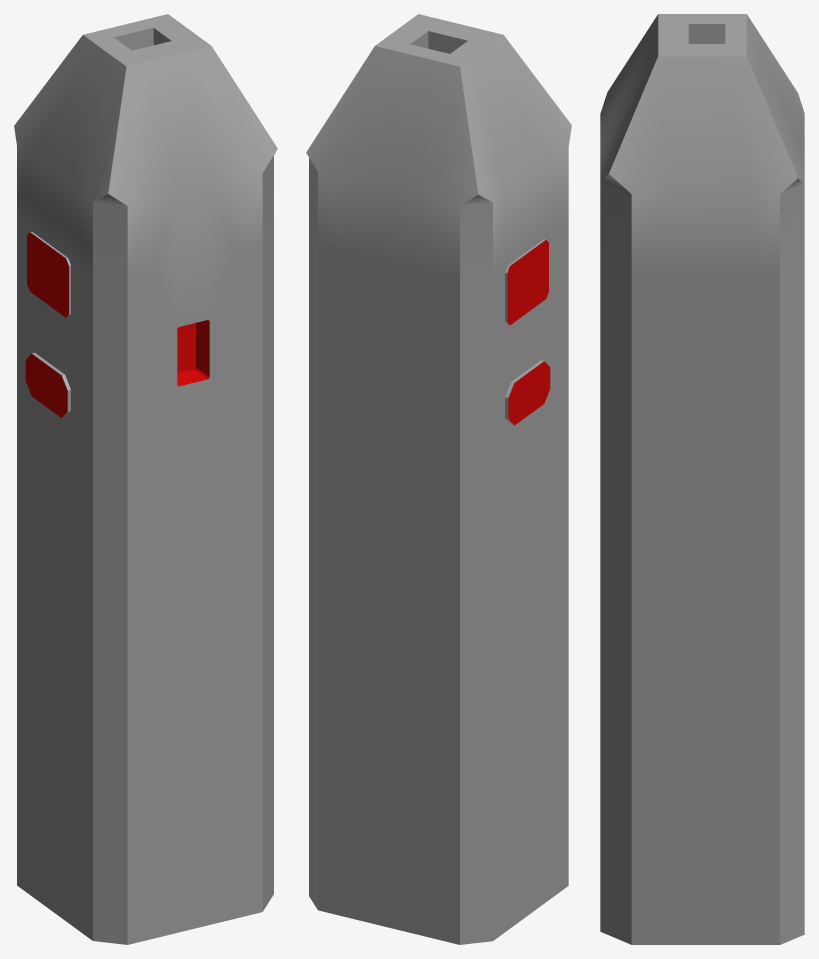
The model's file is Vape.fbx.
3 renders of one model, left to right at view 1: azimuth 30°, elevation 25°; view 2: azimuth 150°, elevation 25°; view 3: azimuth 270°, elevation 25°, orthographic.
Visible parts, largest first — view 1: Vape; view 2: Vape; view 3: Vape.
Boxes of the visible parts, box(x1,y1,x2,y2) form: Vape: box(14, 14, 277, 944); Vape: box(306, 14, 571, 944); Vape: box(600, 14, 804, 944).
Size of the model in its own units: 2.28 by 9.88 by 2.12.
